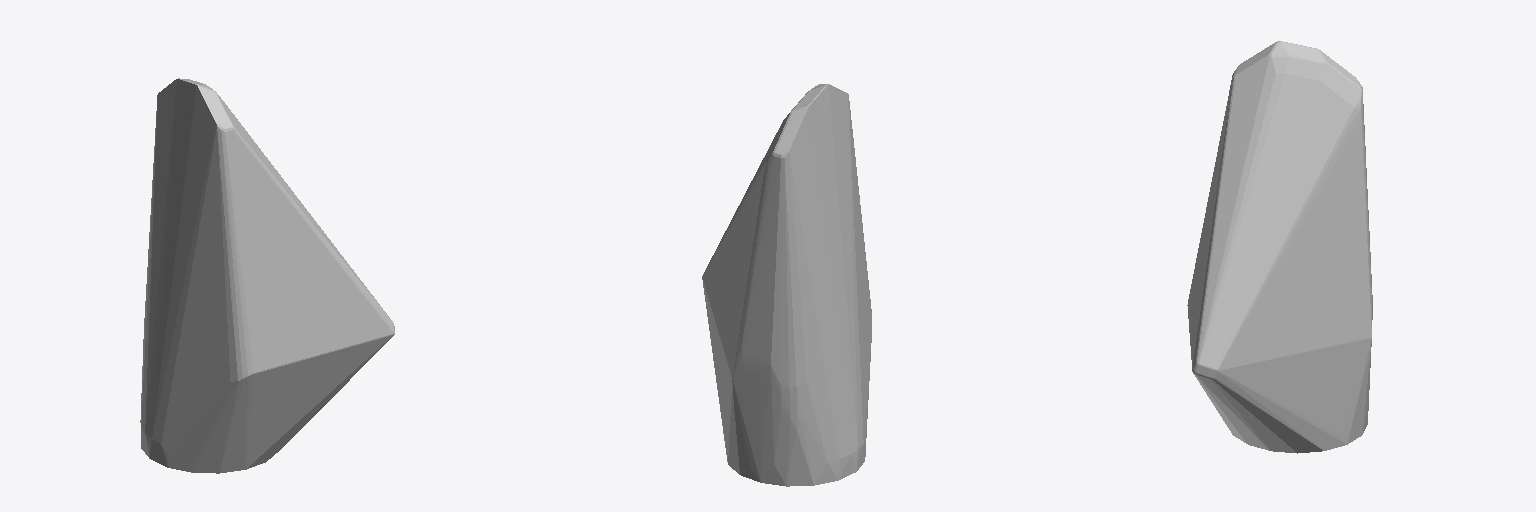
Rendered from armar6-lefthand-v2-complete-ch.obj.
3 renders of one model, left to right at view 1: azimuth 30°, elevation 25°; view 2: azimuth 150°, elevation 25°; view 3: azimuth 270°, elevation 25°, orthographic.
Size of the model in its own units: 0.1442 by 0.2629 by 0.1187.